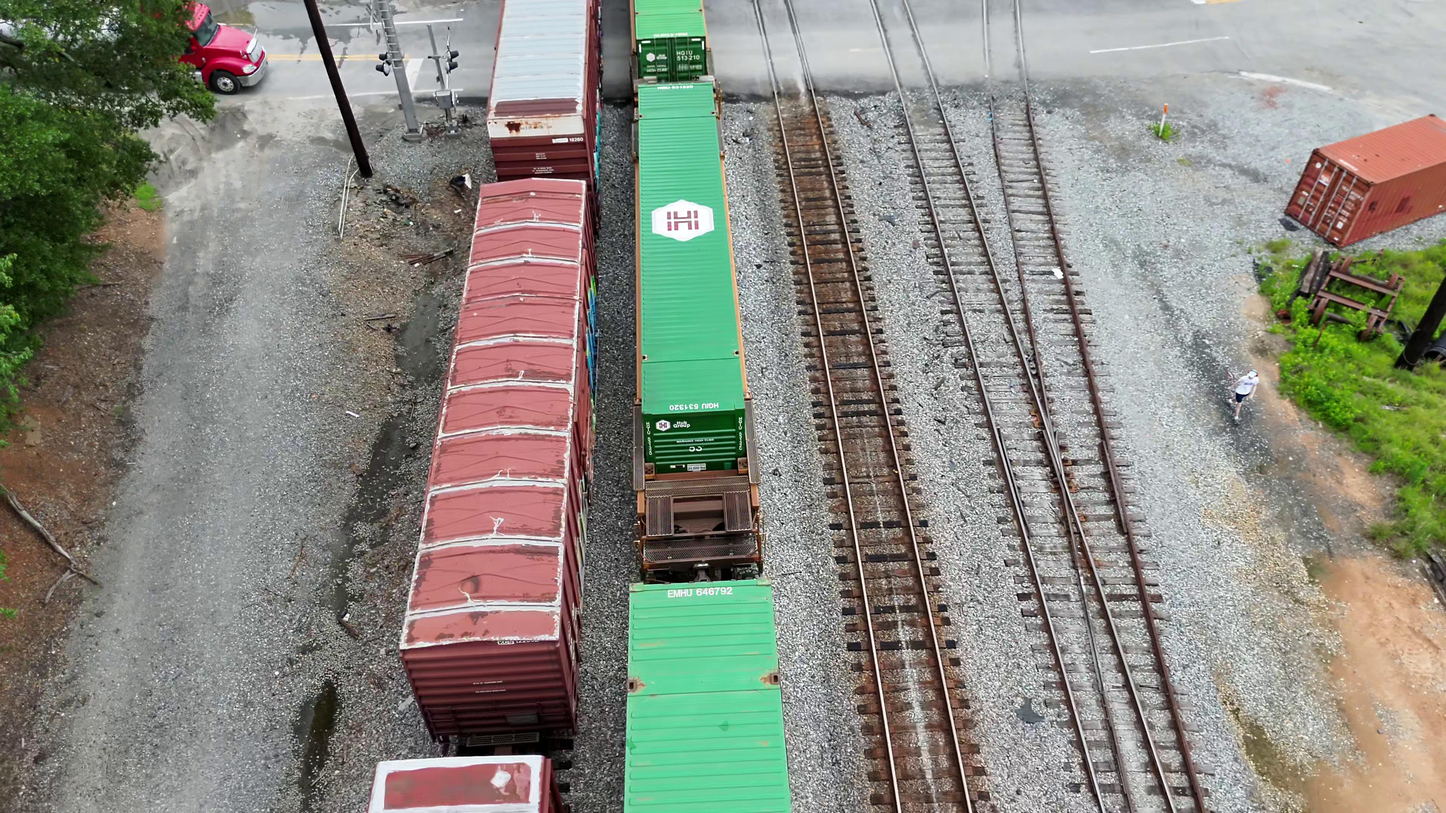human: (1227, 370, 1259, 425)
